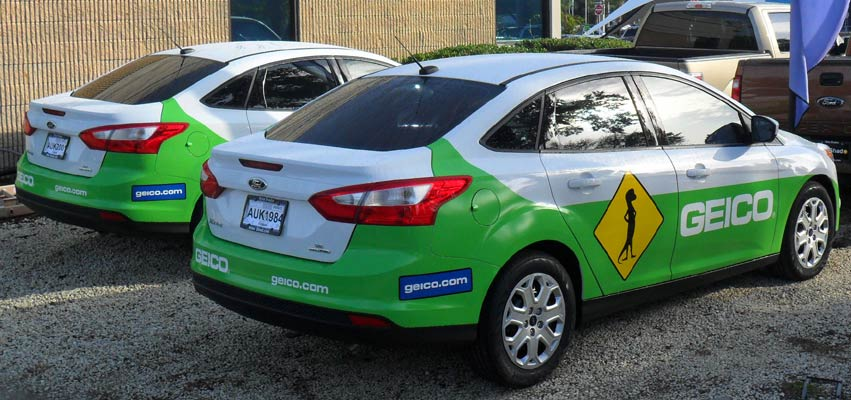geico: (677, 193, 782, 237), (192, 245, 233, 274), (14, 169, 38, 188)
